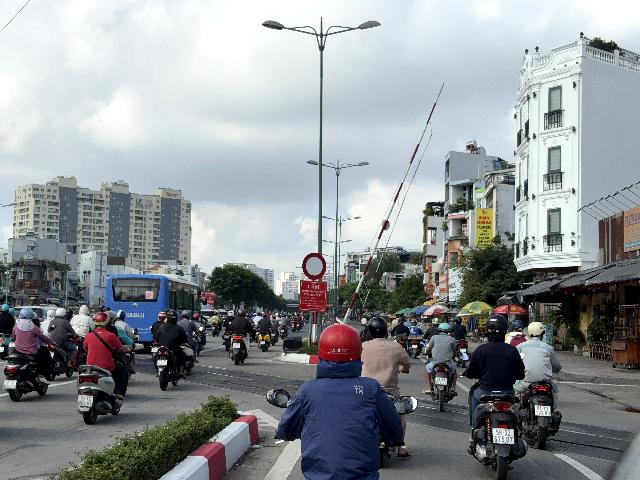duong-cam: (303, 253, 327, 279)
